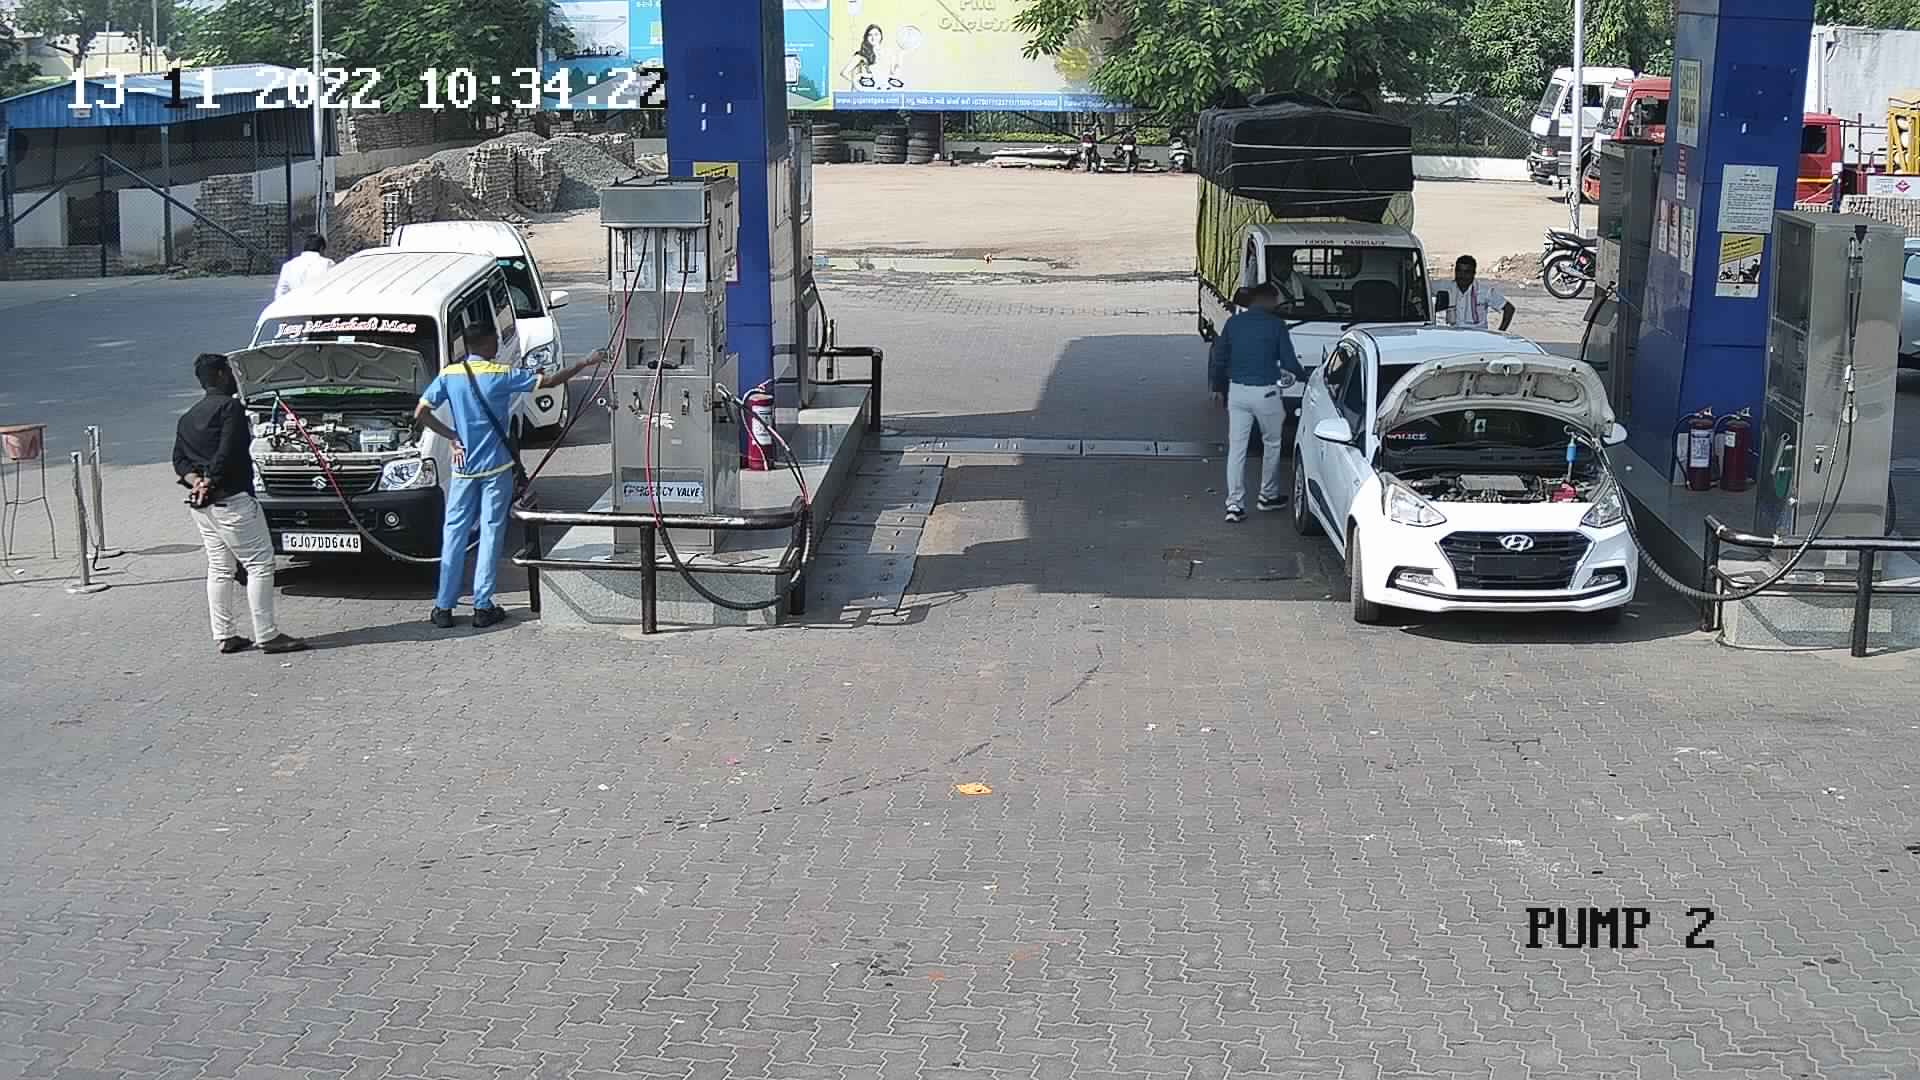Bike: (1532, 214, 1601, 305), (1072, 116, 1112, 182), (1162, 121, 1193, 179), (1116, 120, 1145, 171)
Car: (1287, 318, 1648, 640), (216, 236, 550, 584), (385, 208, 571, 448), (1888, 224, 1917, 380)
HMV: (1178, 90, 1455, 455), (1516, 51, 1673, 203), (1780, 86, 1917, 212), (1576, 62, 1677, 204)
Others: (406, 314, 531, 632)
